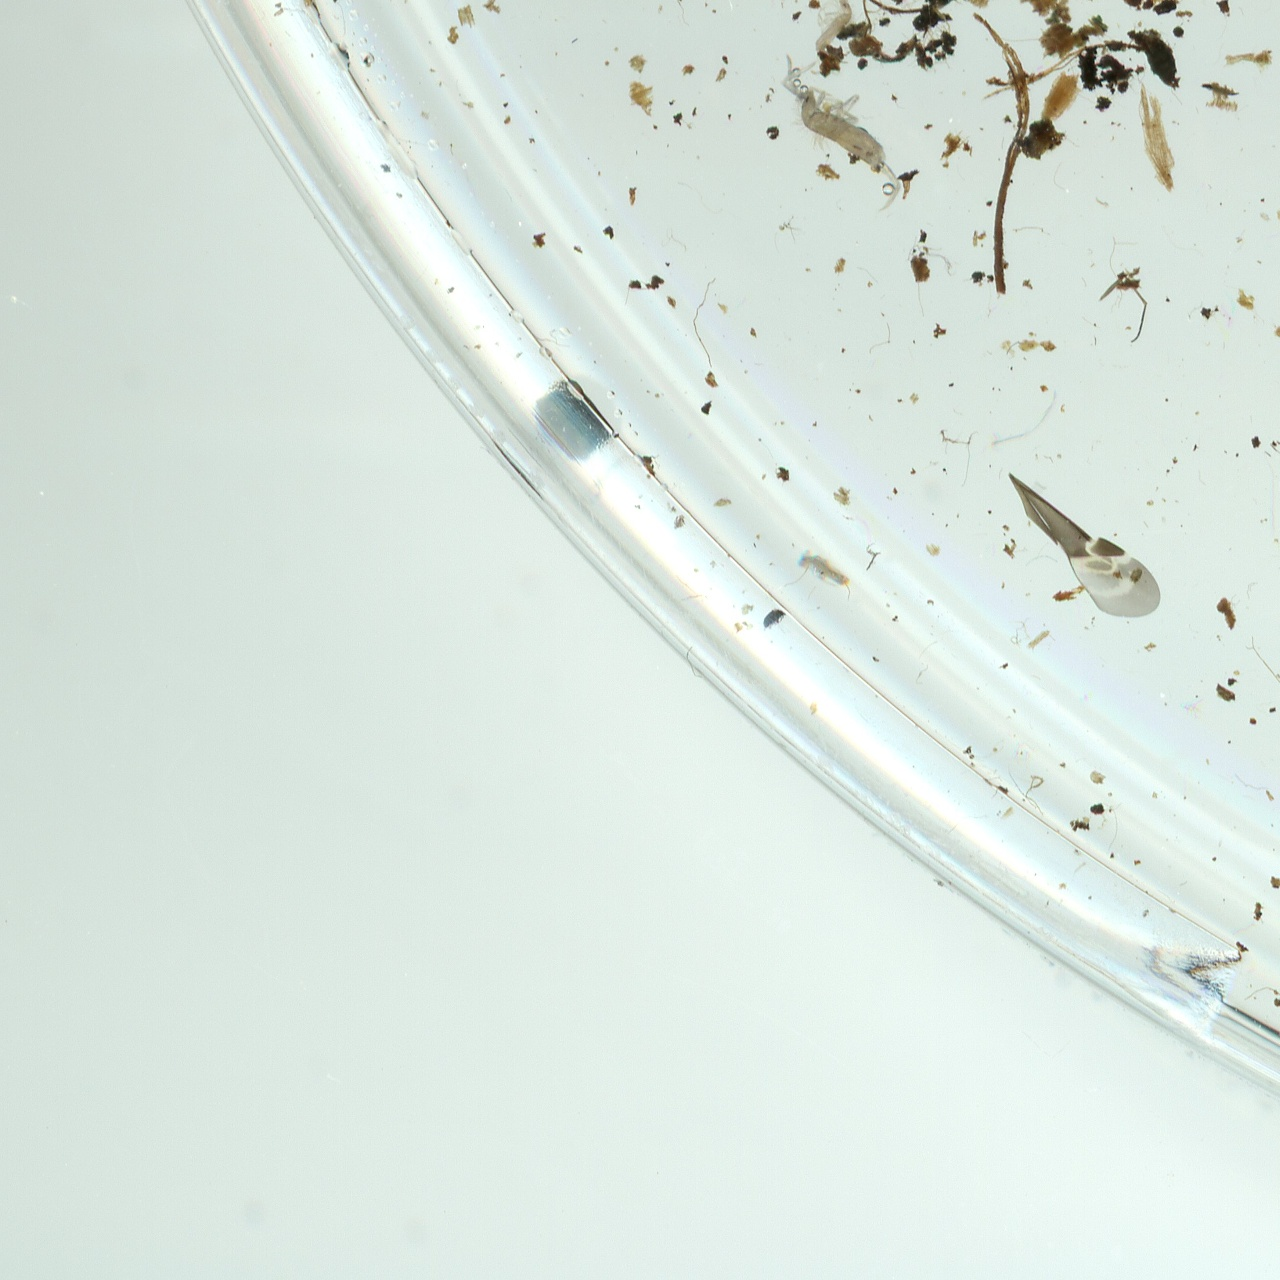arthropod: (743, 46, 935, 217), (785, 543, 867, 605), (796, 0, 867, 63), (755, 601, 790, 634)
